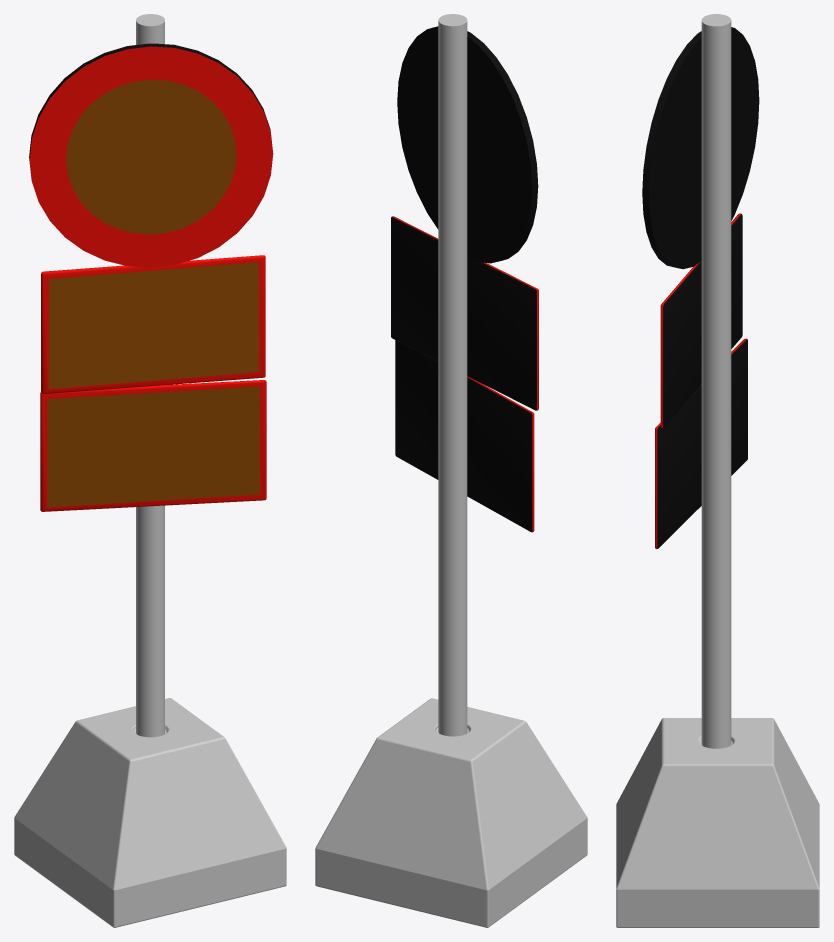
The model's file is street_sign2.obj.
3 renders of one model, left to right at view 1: azimuth 30°, elevation 25°; view 2: azimuth 150°, elevation 25°; view 3: azimuth 270°, elevation 25°, orthographic.
Parts seen in each view (by area): view 1: Cylinder.006, Cube.039_Cube.042, Cube.040_Cube.053, Cube.041_Cube.054, Cylinder.005; view 2: Cube.039_Cube.042, Cylinder.005, Cylinder.006, Cube.040_Cube.053, Cube.041_Cube.054; view 3: Cube.039_Cube.042, Cylinder.005, Cylinder.006, Cube.041_Cube.054, Cube.040_Cube.053.
Boxes of the visible parts, left/top/right/bottom form: Cylinder.006: left=29, top=43, right=273, bottom=267; Cube.039_Cube.042: left=14, top=698, right=286, bottom=927; Cube.040_Cube.053: left=41, top=255, right=265, bottom=394; Cube.041_Cube.054: left=40, top=380, right=266, bottom=511; Cylinder.005: left=136, top=14, right=164, bottom=737; Cube.039_Cube.042: left=315, top=698, right=587, bottom=927; Cylinder.005: left=438, top=14, right=467, bottom=736; Cylinder.006: left=397, top=26, right=538, bottom=263; Cube.040_Cube.053: left=391, top=216, right=538, bottom=410; Cube.041_Cube.054: left=395, top=340, right=534, bottom=532; Cube.039_Cube.042: left=616, top=718, right=819, bottom=927; Cylinder.005: left=701, top=14, right=731, bottom=748; Cylinder.006: left=642, top=27, right=759, bottom=269; Cube.041_Cube.054: left=655, top=338, right=747, bottom=548; Cube.040_Cube.053: left=660, top=213, right=742, bottom=427.
Size of the model in its own units: 0.6121 by 2.59 by 0.5529.
